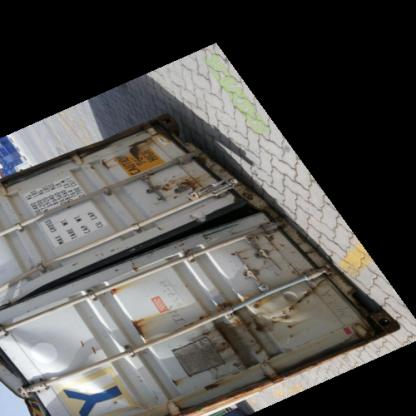Damage: (122, 202, 276, 270), (16, 366, 127, 416), (252, 277, 326, 345), (114, 131, 161, 165), (156, 168, 207, 198), (127, 312, 155, 350)
